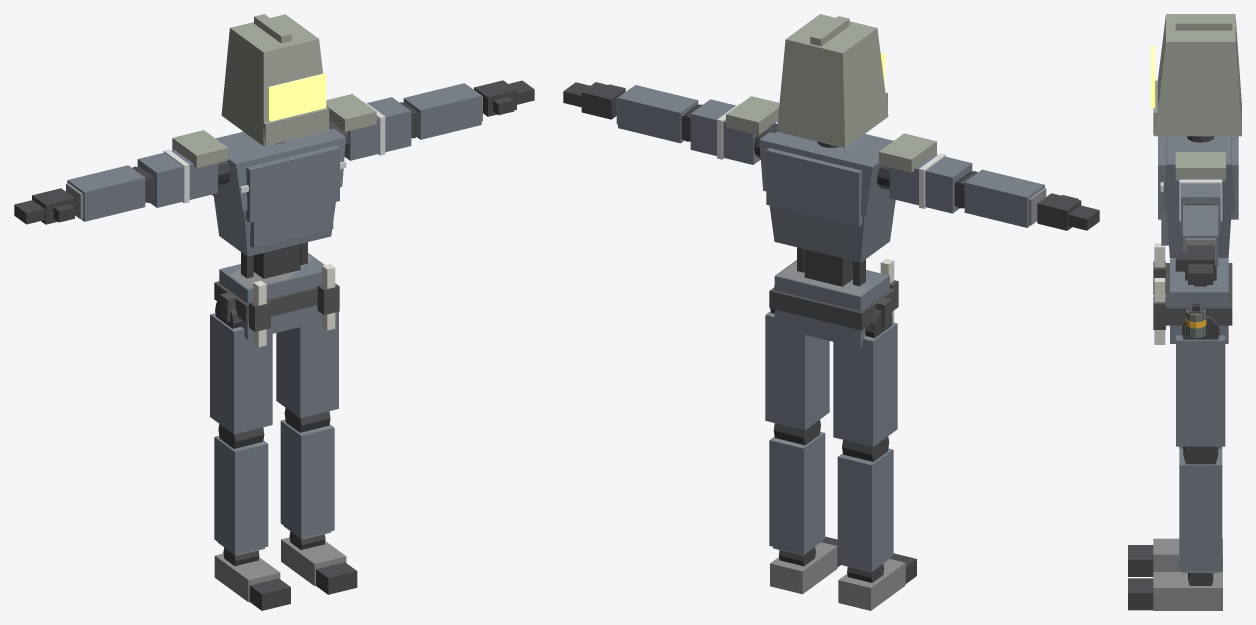
The model's file is char_F1_security.glb.
The picture shows the model from 3 angles, left to right: view 1: azimuth 30°, elevation 25°; view 2: azimuth 150°, elevation 25°; view 3: azimuth 270°, elevation 25°; orthographic projection. The views are drawn at different scales.
Visible parts, largest first — view 1: Head_mesh, UpperChest_mesh, LeftLowerLeg_mesh, RightLowerLeg_mesh, RightUpperLeg_mesh, Hips_mesh, LeftUpperLeg_mesh, RightUpperArm_mesh, Chest_mesh, LeftUpperArm_mesh, RightLowerArm_mesh, LeftLowerArm_mesh (+7 smaller); view 2: Head_mesh, UpperChest_mesh, Hips_mesh, RightUpperLeg_mesh, LeftLowerLeg_mesh, RightLowerLeg_mesh, LeftUpperLeg_mesh, RightUpperArm_mesh, Chest_mesh, LeftUpperArm_mesh, RightLowerArm_mesh, LeftLowerArm_mesh (+5 smaller); view 3: Head_mesh, LeftUpperLeg_mesh, LeftLowerLeg_mesh, Hips_mesh, UpperChest_mesh, LeftUpperArm_mesh, LeftFoot_mesh, LeftLowerArm_mesh, LeftHand_mesh, Chest_mesh, RightFoot_mesh, LeftToes_mesh (+4 smaller).
Boxes of the visible parts, left/top/right/bottom form: Head_mesh: left=221, top=14, right=329, bottom=146; UpperChest_mesh: left=212, top=129, right=346, bottom=222; LeftLowerLeg_mesh: left=280, top=408, right=334, bottom=539; RightLowerLeg_mesh: left=214, top=424, right=268, bottom=555; RightUpperLeg_mesh: left=210, top=299, right=272, bottom=434; Hips_mesh: left=214, top=253, right=339, bottom=339; LeftUpperLeg_mesh: left=276, top=311, right=338, bottom=418; RightUpperArm_mesh: left=137, top=130, right=228, bottom=207; Chest_mesh: left=213, top=193, right=335, bottom=256; LeftUpperArm_mesh: left=326, top=94, right=411, bottom=160; RightLowerArm_mesh: left=66, top=165, right=154, bottom=221; LeftLowerArm_mesh: left=399, top=83, right=482, bottom=139; Head_mesh: left=777, top=14, right=888, bottom=148; UpperChest_mesh: left=759, top=132, right=893, bottom=227; Hips_mesh: left=769, top=260, right=898, bottom=348; RightUpperLeg_mesh: left=833, top=309, right=897, bottom=446; LeftLowerLeg_mesh: left=769, top=420, right=825, bottom=555; RightLowerLeg_mesh: left=837, top=436, right=893, bottom=572; LeftUpperLeg_mesh: left=765, top=308, right=829, bottom=430; RightUpperArm_mesh: left=879, top=133, right=972, bottom=213; Chest_mesh: left=769, top=198, right=895, bottom=262; LeftUpperArm_mesh: left=690, top=96, right=779, bottom=164; RightLowerArm_mesh: left=954, top=169, right=1046, bottom=227; LeftLowerArm_mesh: left=616, top=85, right=702, bottom=143; Head_mesh: left=1151, top=14, right=1241, bottom=136; LeftUpperLeg_mesh: left=1176, top=315, right=1225, bottom=446; LeftLowerLeg_mesh: left=1179, top=446, right=1222, bottom=572; Hips_mesh: left=1153, top=258, right=1232, bottom=343; UpperChest_mesh: left=1158, top=136, right=1238, bottom=219; LeftUpperArm_mesh: left=1175, top=152, right=1225, bottom=233; LeftFoot_mesh: left=1153, top=572, right=1222, bottom=610; LeftLowerArm_mesh: left=1183, top=204, right=1218, bottom=266; LeftHand_mesh: left=1175, top=245, right=1214, bottom=284; Chest_mesh: left=1161, top=210, right=1231, bottom=257; RightFoot_mesh: left=1153, top=538, right=1222, bottom=571; LeftToes_mesh: left=1128, top=578, right=1153, bottom=610.
Size of the model in its own units: 1.92 by 1.97 by 0.36.
